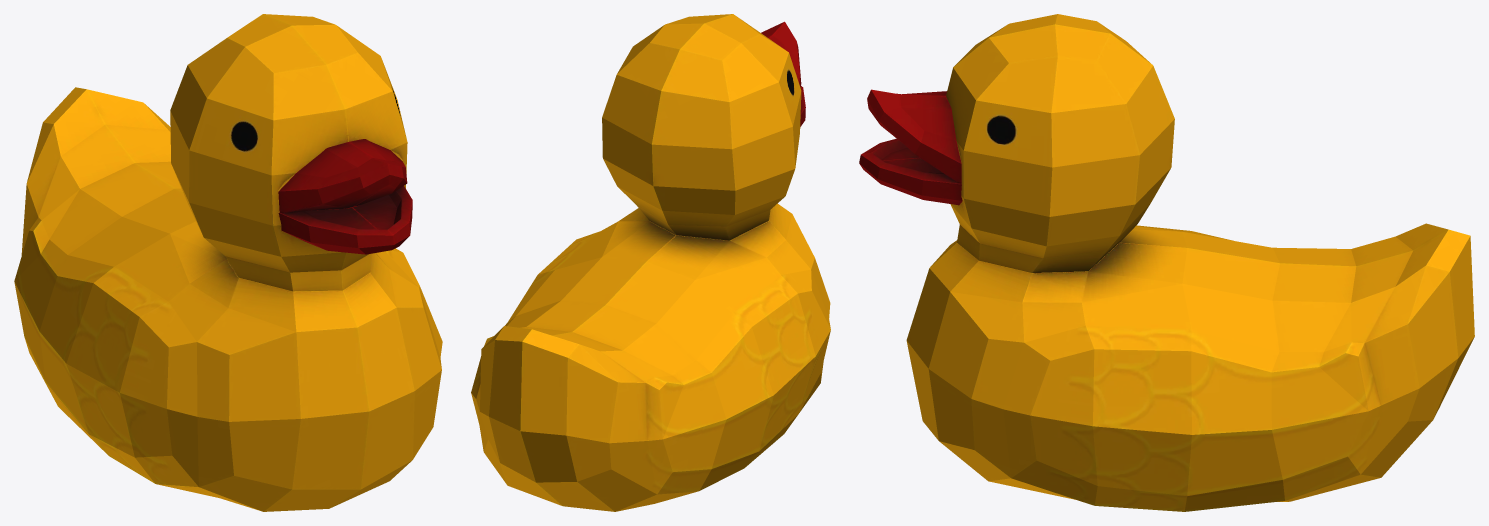
The model's file is RubberDuck-transformed.glb.
3 renders of one model, left to right at view 1: azimuth 30°, elevation 25°; view 2: azimuth 150°, elevation 25°; view 3: azimuth 270°, elevation 25°, orthographic. The views are drawn at different scales.
Parts seen in each view (by area): view 1: RubberDuck_mesh; view 2: RubberDuck_mesh; view 3: RubberDuck_mesh.
Part boxes in pixels (<box>): RubberDuck_mesh: <box>14,14,442,511</box>; RubberDuck_mesh: <box>471,14,830,511</box>; RubberDuck_mesh: <box>859,14,1474,511</box>.
Bounding box in the file's own units: 3.97 × 5.82 × 7.16.
1 material, 1 textured.
